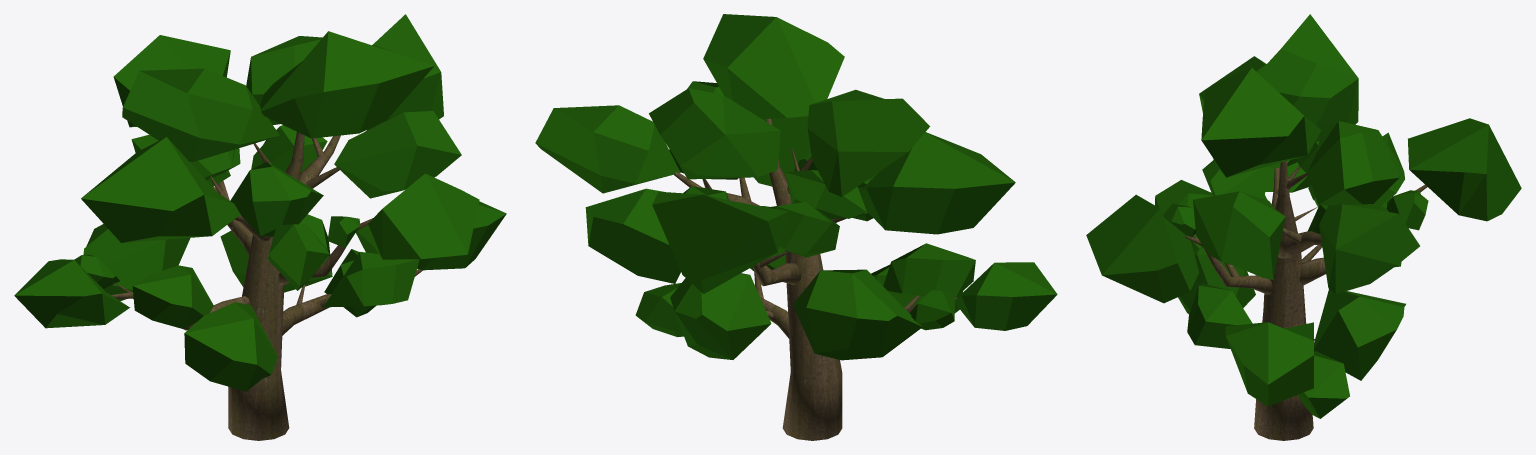
The model's file is OakOG.fbx.
The picture shows the model from 3 angles, left to right: view 1: azimuth 30°, elevation 25°; view 2: azimuth 150°, elevation 25°; view 3: azimuth 270°, elevation 25°; orthographic projection. The views are drawn at different scales.
Parts seen in each view (by area): view 1: Oak tree; view 2: Oak tree; view 3: Oak tree.
Boxes of the visible parts, left/top/right/bottom form: Oak tree: left=14, top=14, right=506, bottom=440; Oak tree: left=535, top=14, right=1057, bottom=440; Oak tree: left=1086, top=14, right=1521, bottom=440.
Size of the model in its own units: 5223 by 4051 by 4140.
